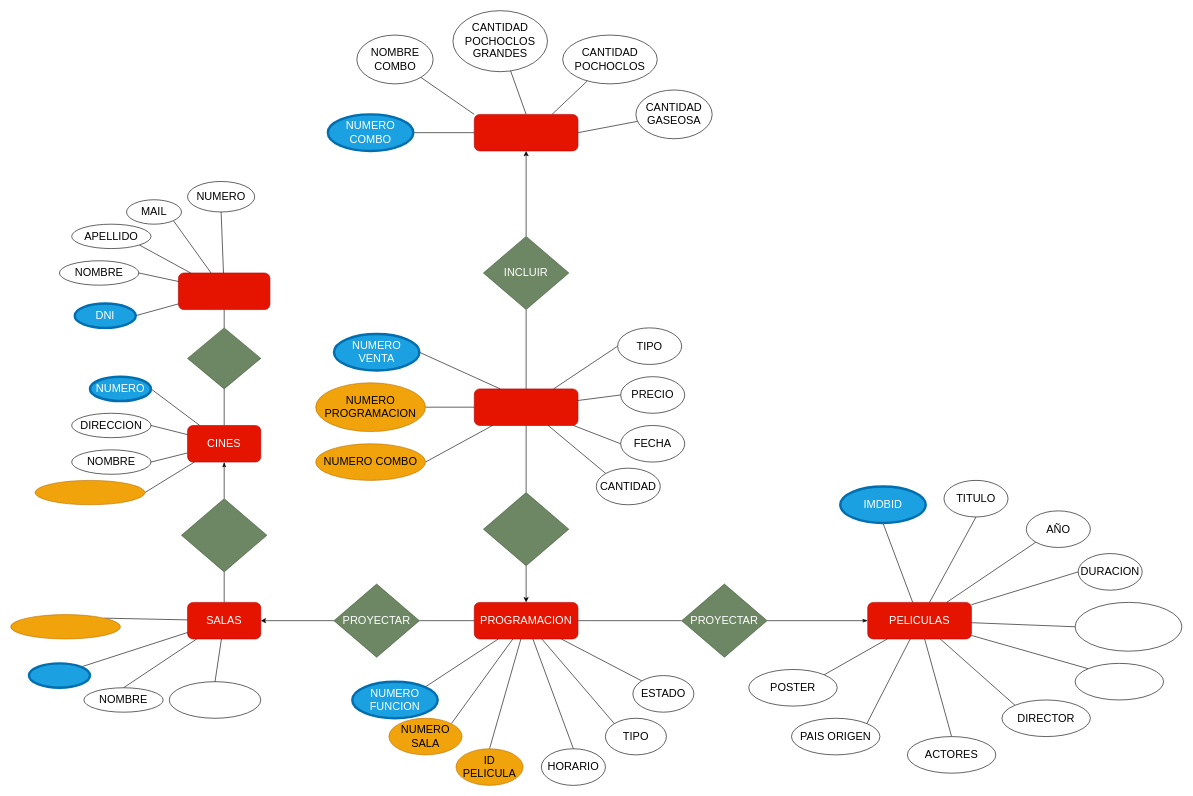
Image size: 1193x796. Some labels were removed from this diagram. The centre of each missing label's shape, as x and y in pixels:
ALOJAR: the point at 224,535
CANTIDAD BUTACAS: the point at 215,699
CLASIFICACION: the point at 1128,626
COMBO: the point at 526,132
DIRIGIR: the point at 224,358
DNI ENCARGADO: the point at 89,492
ENCARGADOS: the point at 224,291
ENTRADAS: the point at 526,406
GENERO: the point at 1119,681
ID: the point at 59,675
NUMERO CINE: the point at 65,626
VENDER: the point at 526,529
